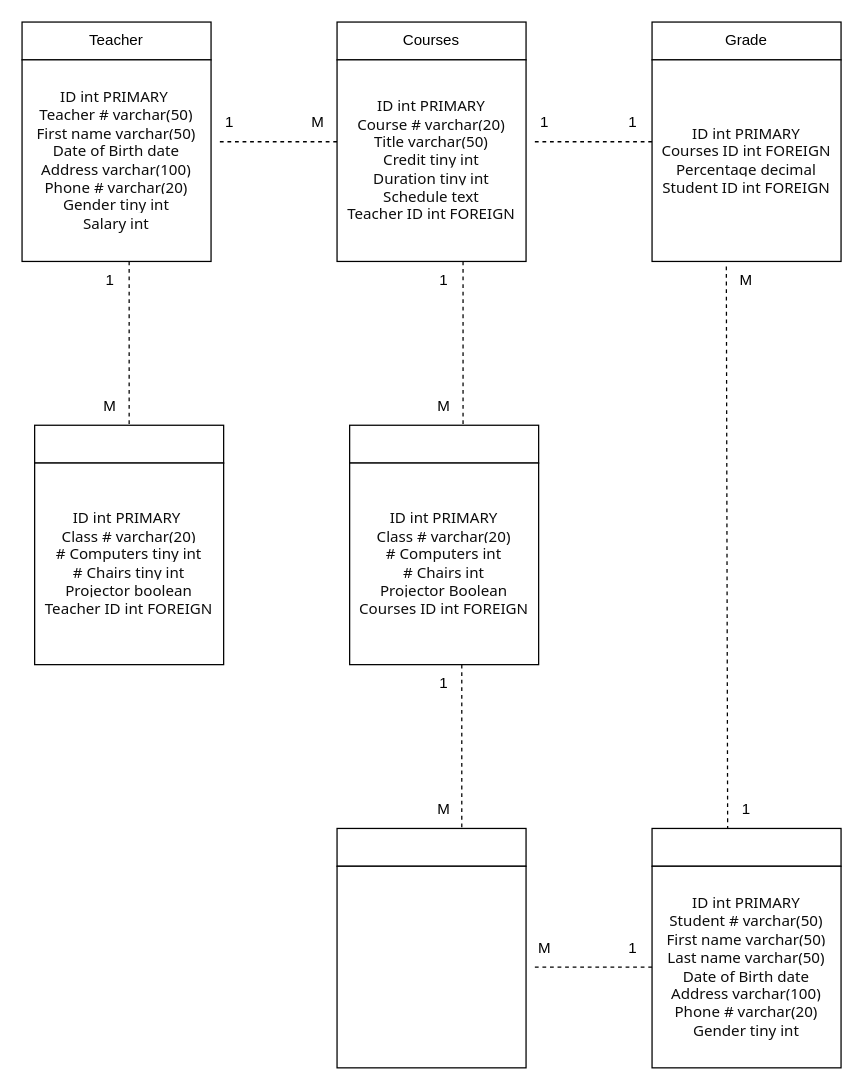
Some shapes in this 863 by 1090 pixel diagram are drawn without their labels. The shapes that lost their labels are listed below. From the top down, each one's centre as x and y in pixels, then its label:
(128,443): Classrooms
(443,443): Classes
(431,846): Student_class
(746,846): Students
(431,966): ID int PRIMARY Classes ID int FOREIGN Students ID int FOREIGN
